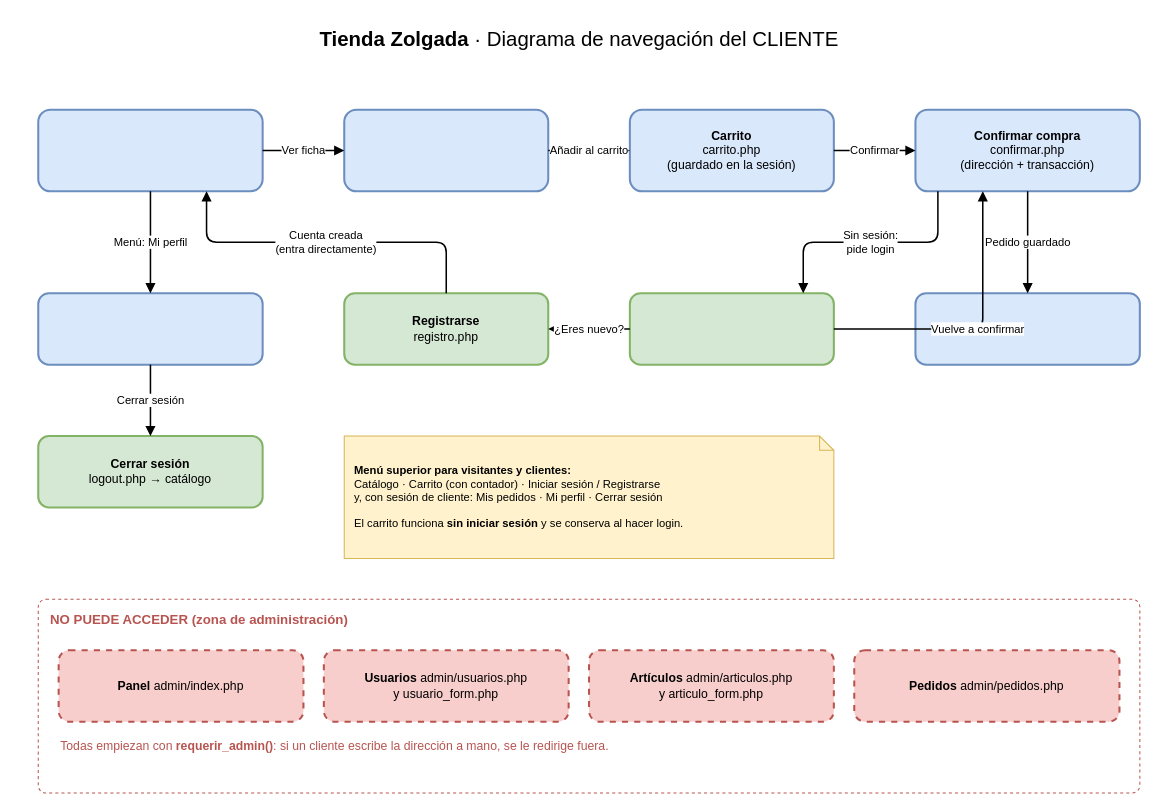
Image size: 1158x811. Some labels were removed from this diagram. The centre of each missing label's shape, as x and y in pixels:
"Catálogo index.php (búsqueda por GET ?q=)" goes at (150,150).
"Ficha del artículo articulo.php" goes at (446,150).
"Iniciar sesión login.php" goes at (731,328).
"Mi perfil perfil.php" goes at (150,328).
"Mis pedidos mis_pedidos.php" goes at (1027,328).
